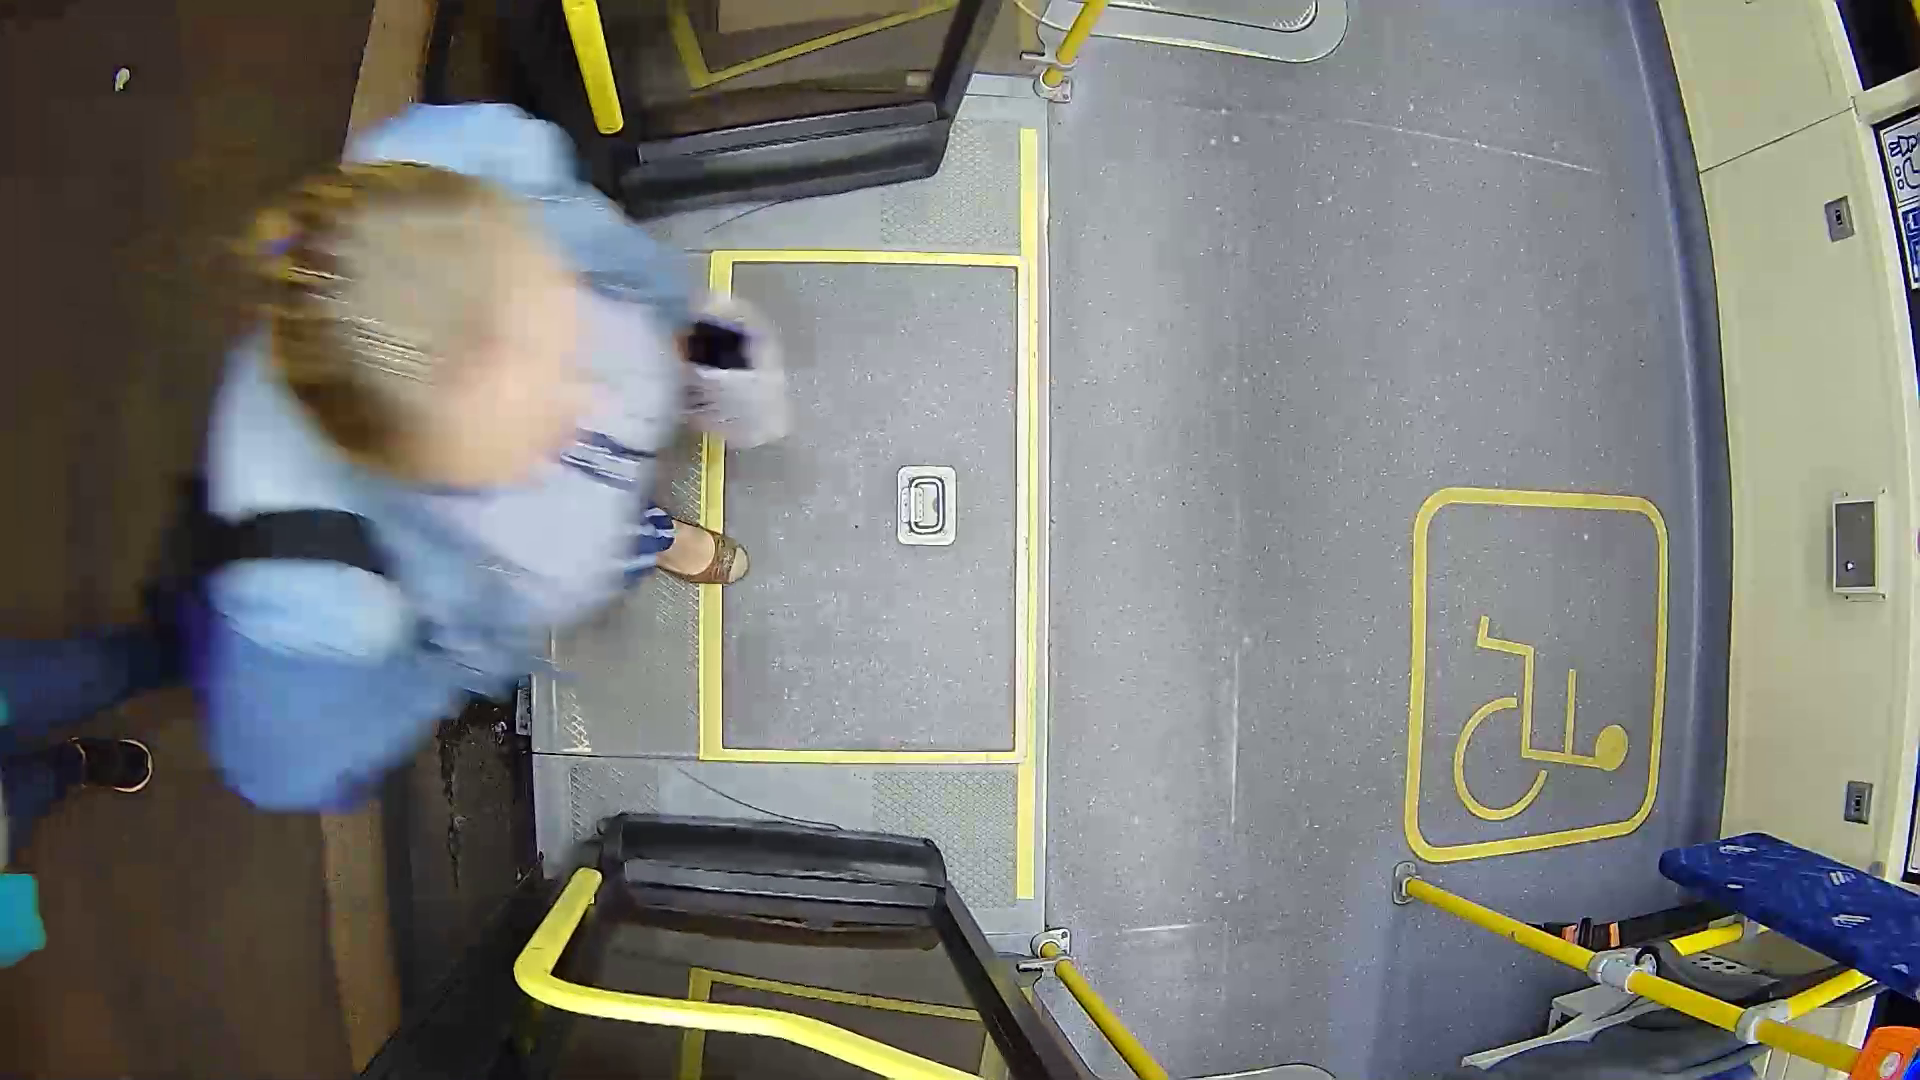person: (156, 119, 816, 782)
